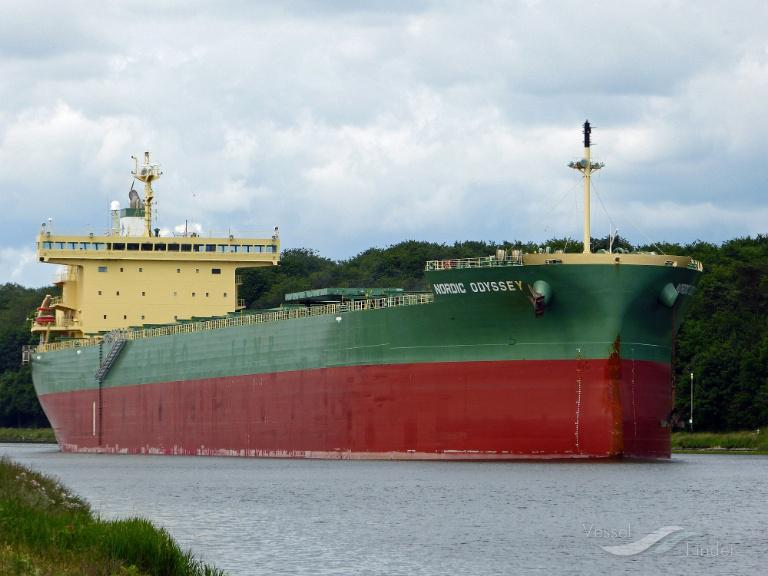OCR: (426, 277, 523, 300)
